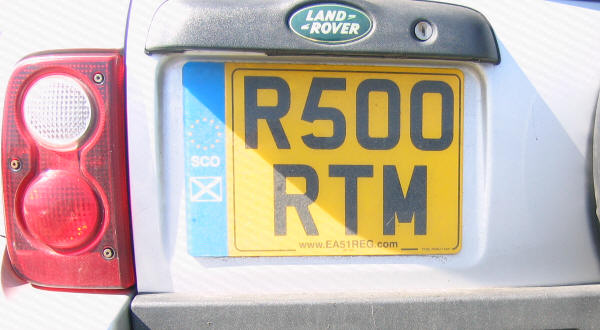license_plate: (180, 60, 464, 257)
